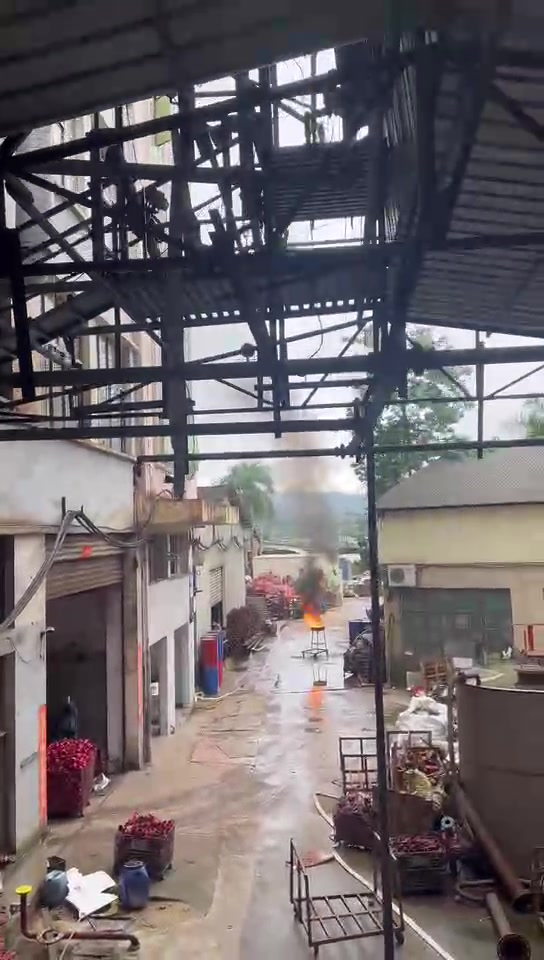fire: (302, 606, 323, 626)
